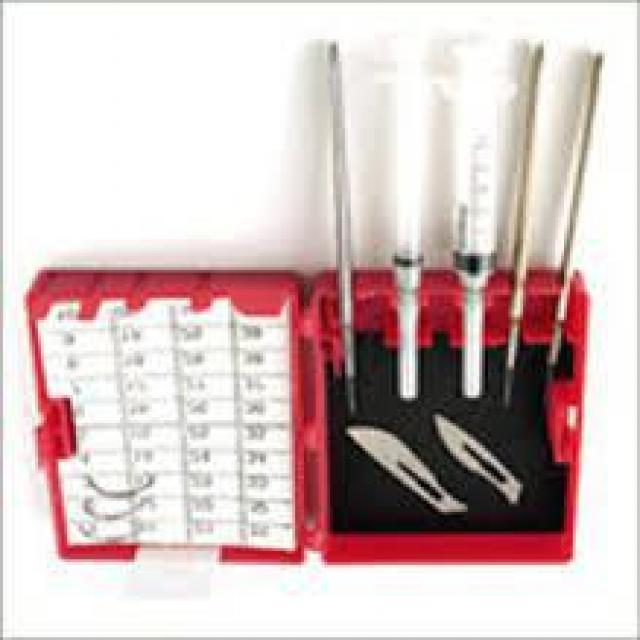Needle: (76, 520, 146, 551), (82, 473, 152, 501), (82, 498, 149, 523)
Scalpel: (344, 420, 470, 518), (432, 412, 524, 506)
